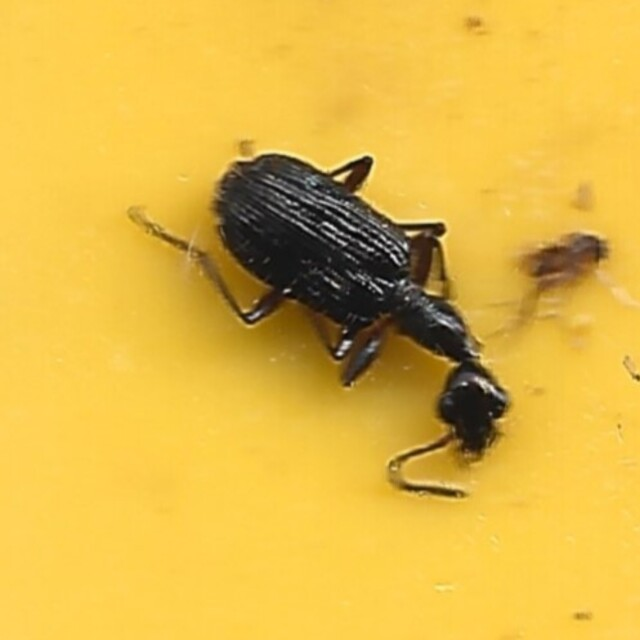Coleoptera: (129, 137, 511, 503)
